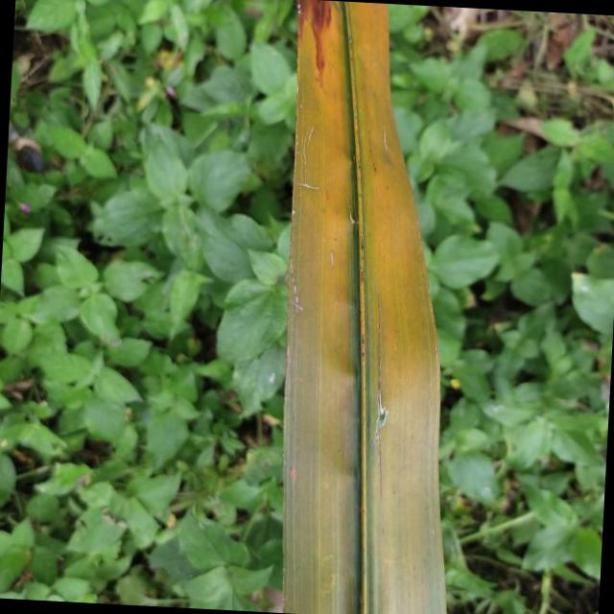Megnesium: (282, 3, 447, 614)
